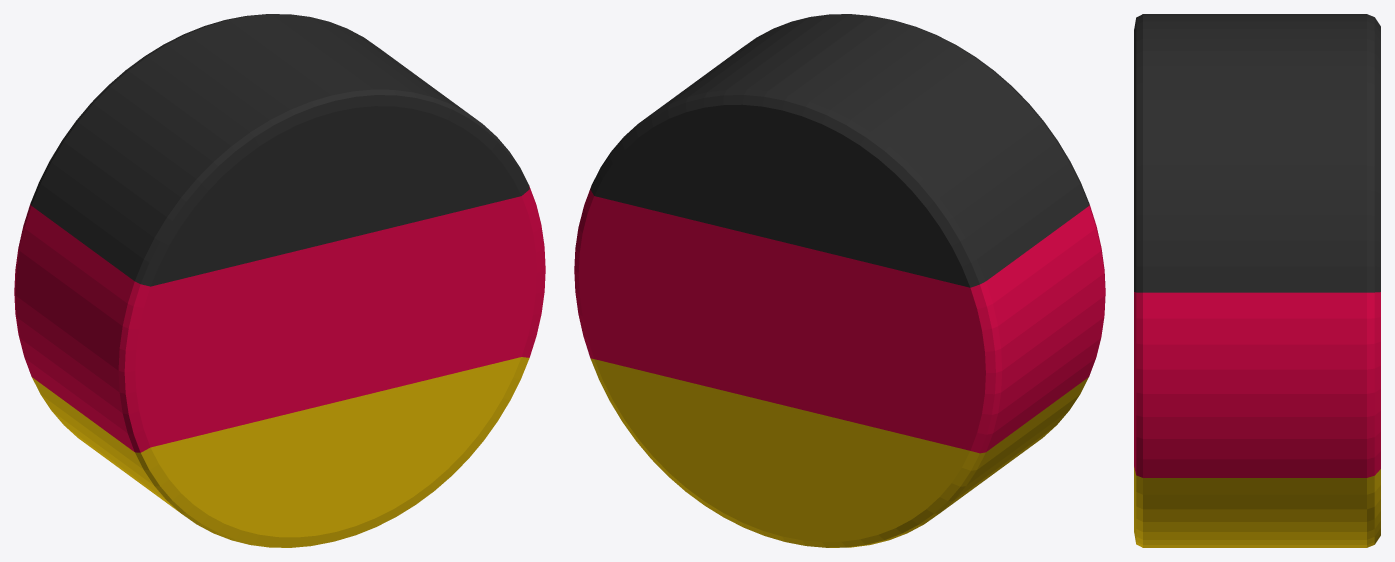
3 views of the same model, side by side, from view 1: azimuth 30°, elevation 25°; view 2: azimuth 150°, elevation 25°; view 3: azimuth 270°, elevation 25° (orthographic). The views are drawn at different scales.
Visible parts, largest first — view 1: DE; view 2: DE; view 3: DE.
Boxes of the visible parts, box(x1,y1,x2,y2) form: DE: box(14, 14, 545, 547); DE: box(574, 14, 1105, 547); DE: box(1134, 14, 1380, 547).
Bounding box in the file's own units: 2 × 2 × 0.9234.
